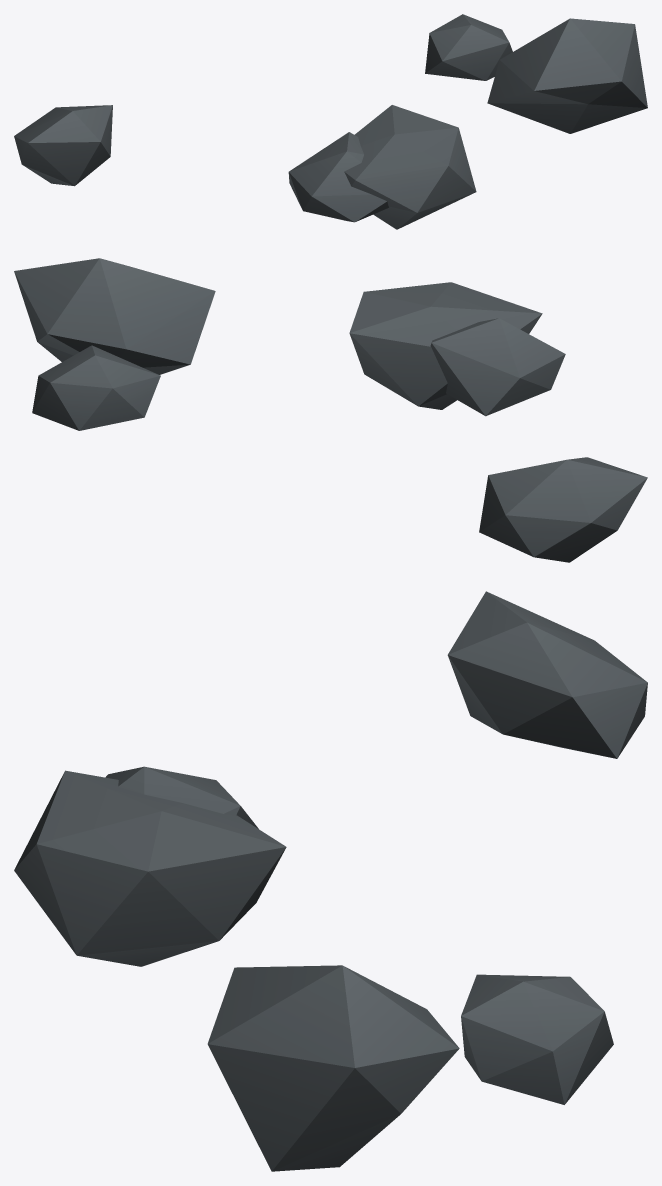
Rendered from pebbles.glb.
The picture shows the model from 3 angles, top to bottom: view 1: azimuth 30°, elevation 25°; view 2: azimuth 150°, elevation 25°; view 3: azimuth 270°, elevation 25°; orthographic projection. The views are drawn at different scales.
Visible parts, largest first — view 1: pebbles; view 2: pebbles; view 3: pebbles.
Part boxes in pixels (bbox=[...]): pebbles: bbox=[14, 14, 647, 229]; pebbles: bbox=[14, 258, 647, 562]; pebbles: bbox=[14, 591, 647, 1171].
Size of the model in its own units: 0.8438 by 0.1627 by 0.4618.
Materials: 1 (1 with a texture image).
